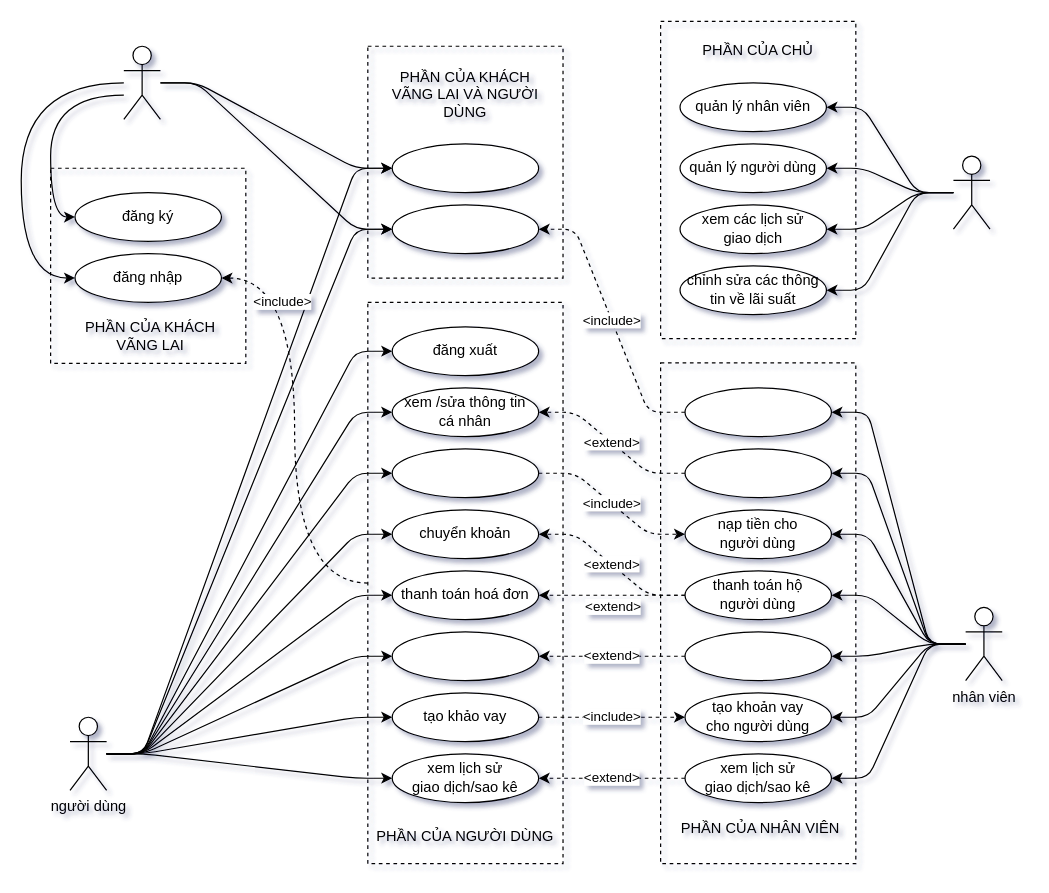
Some shapes in this 1049 by 893 pixel diagram are drawn without their labels. Each missing label, with the centre of its shape:
"chủ ngân hàng" belongs at [971,192].
"gửi tiết kiệm" belongs at [465,656].
"gửi tiết kiệm hộ người dùng" belongs at [757,656].
"khách vãng lai" belongs at [141,82].
"liên hệ với bộ phận cskh" belongs at [465,229].
"nạp tiền" belongs at [465,473].
"tiếp nhận liên hệ của khách" belongs at [757,412].
"xem /sửa thông tin hộ người dùng" belongs at [757,473].
"xem các thông tin về ngân hàng" belongs at [465,168].
